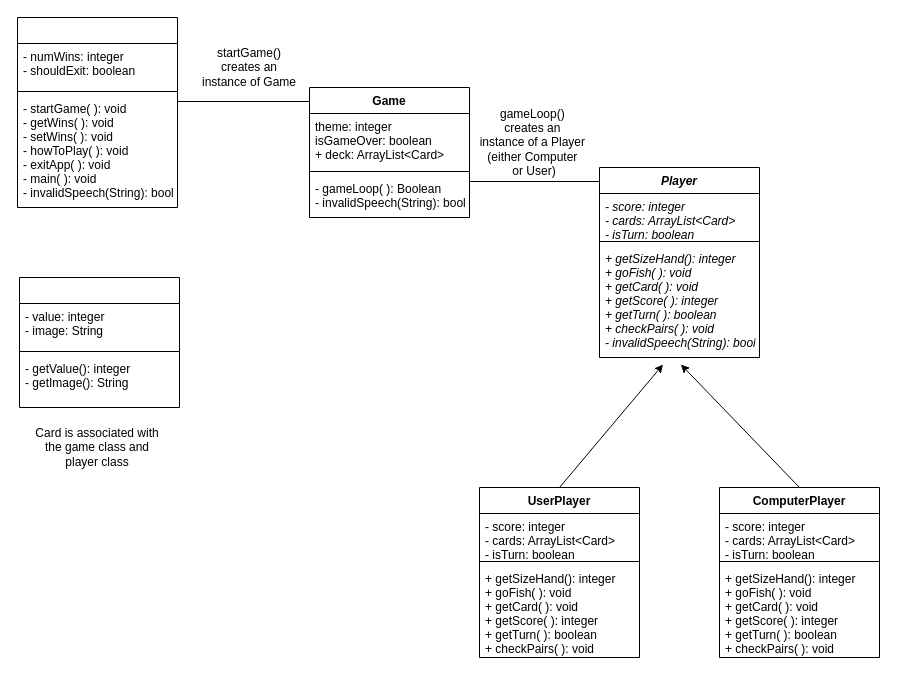
This 897x678 diagram has some shape labels left out. The box of each missing label's shape, as (x1, y1, x2, y2) in pixels:
Card: (18, 276, 180, 408)
MainMenu: (16, 16, 178, 208)
